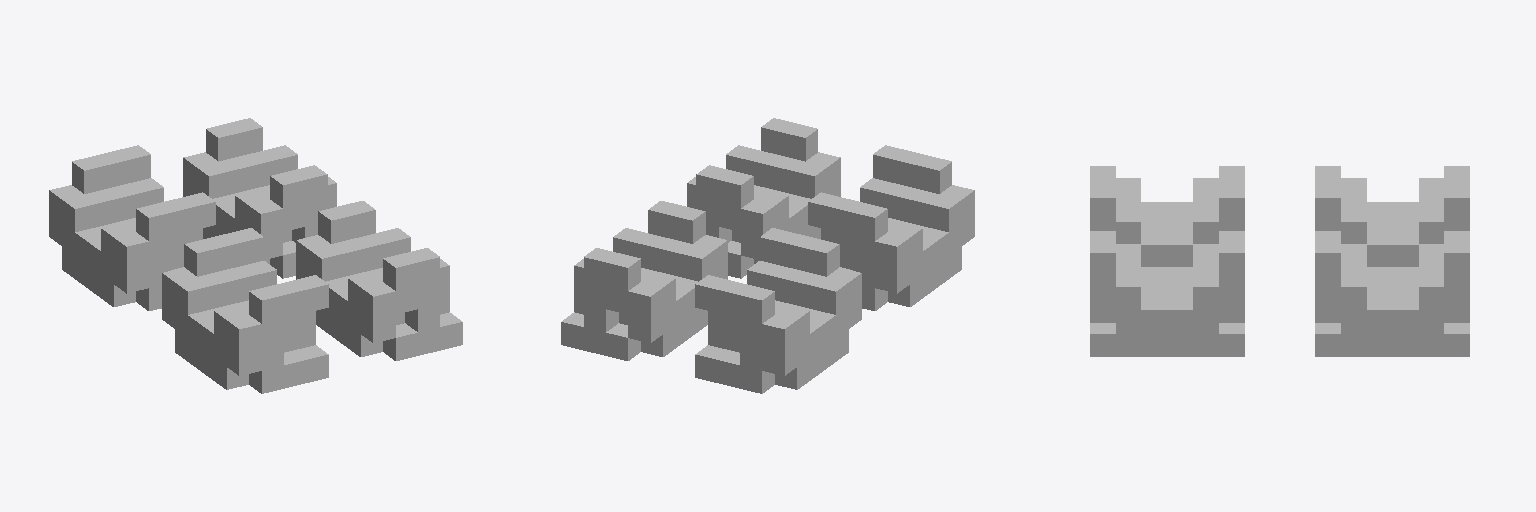
File: arroz 4.obj
3 renders of one model, left to right at view 1: azimuth 30°, elevation 25°; view 2: azimuth 150°, elevation 25°; view 3: azimuth 270°, elevation 25°, orthographic.
Bounding box in the file's own units: 0.8 × 0.32 × 1.18.